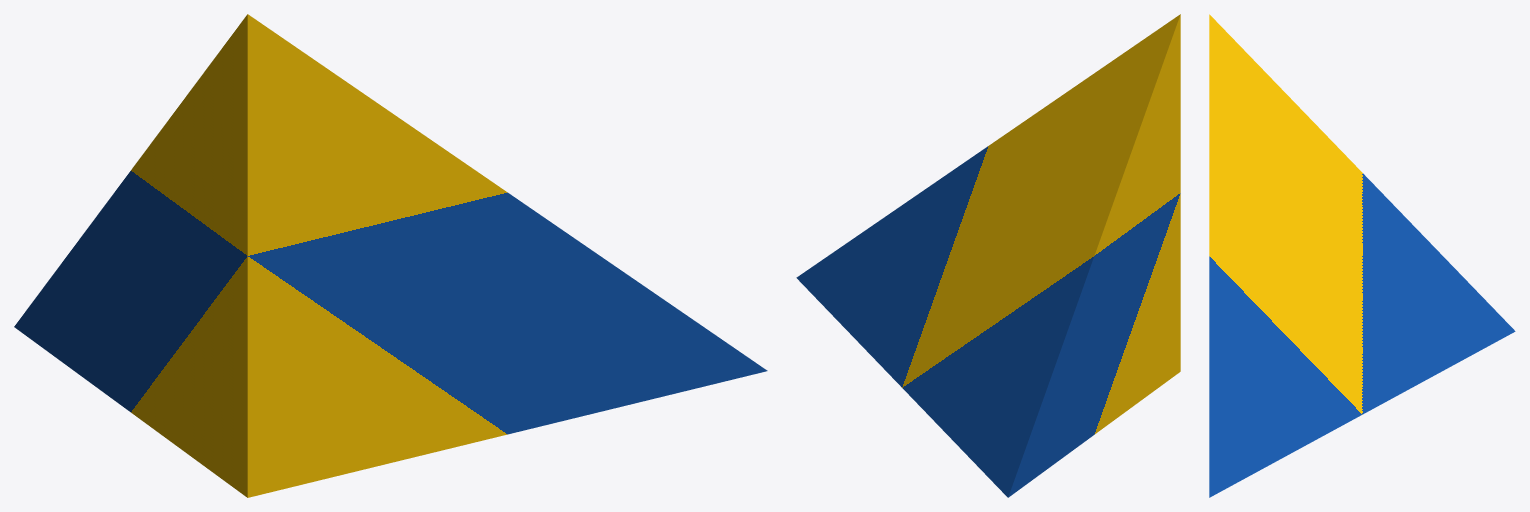
File: tetra.glb
3 views of the same model, side by side, from view 1: azimuth 30°, elevation 25°; view 2: azimuth 150°, elevation 25°; view 3: azimuth 270°, elevation 25° (orthographic). The views are drawn at different scales.
Visible parts, largest first — view 1: Synthetic tetrahedron; view 2: Synthetic tetrahedron; view 3: Synthetic tetrahedron.
Part boxes in pixels (<box>): Synthetic tetrahedron: <box>14,14,767,497</box>; Synthetic tetrahedron: <box>796,14,1180,497</box>; Synthetic tetrahedron: <box>1209,14,1515,497</box>.
Size of the model in its own units: 9 by 8 by 7.
Materials: 1 (1 with a texture image).
